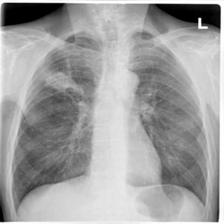tuberculosis: (6, 26, 211, 211)
